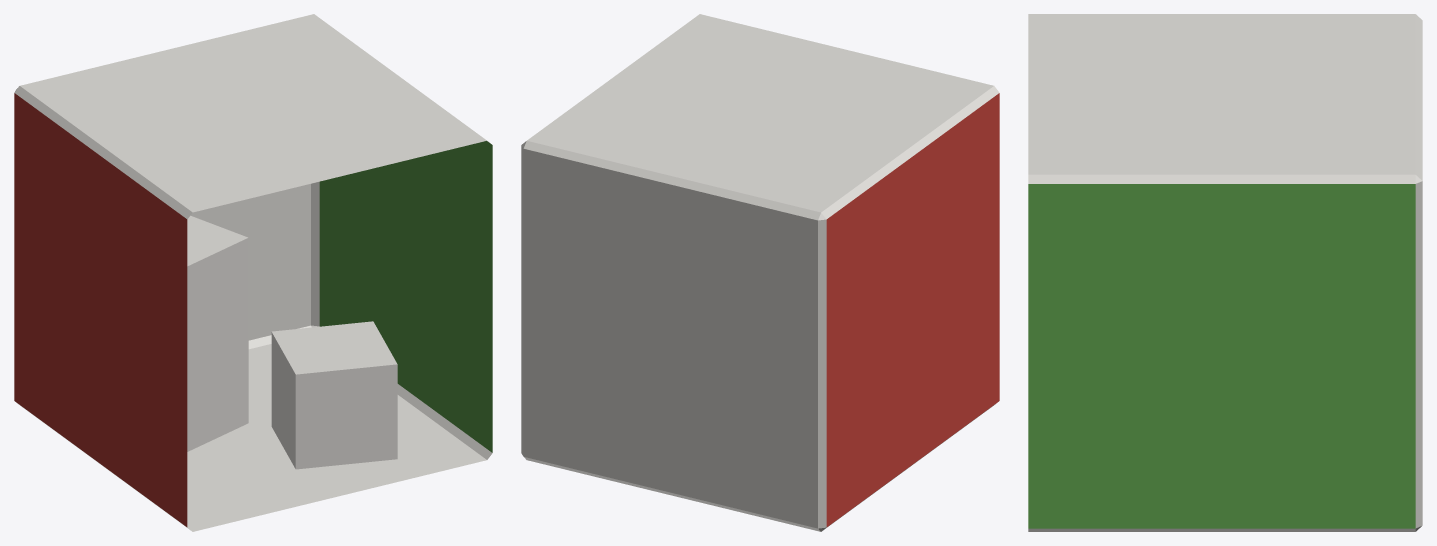
Rendered from cornell_emissive.gltf.
3 renders of one model, left to right at view 1: azimuth 30°, elevation 25°; view 2: azimuth 150°, elevation 25°; view 3: azimuth 270°, elevation 25°, orthographic. The views are drawn at different scales.
Visible parts, largest first — view 1: LeftWall, Roof, RightWall, Floor, Cube.003, Cube.004, BackWall, Cube; view 2: BackWall, LeftWall, Roof, Cube; view 3: RightWall, Roof, Cube.
Part boxes in pixels (x1=…): LeftWall: x1=14, y1=93, x2=187, y2=526; Roof: x1=20, y1=14, x2=486, y2=212; RightWall: x1=319, y1=141, x2=492, y2=452; Floor: x1=187, y1=344, x2=486, y2=531; Cube.003: x1=271, y1=321, x2=397, y2=469; Cube.004: x1=187, y1=215, x2=248, y2=451; BackWall: x1=190, y1=184, x2=310, y2=340; Cube: x1=14, y1=86, x2=492, y2=530; BackWall: x1=523, y1=149, x2=817, y2=528; LeftWall: x1=826, y1=93, x2=999, y2=526; Roof: x1=527, y1=14, x2=993, y2=212; Cube: x1=521, y1=86, x2=999, y2=531; RightWall: x1=1028, y1=184, x2=1415, y2=528; Roof: x1=1028, y1=14, x2=1415, y2=174; Cube: x1=1028, y1=14, x2=1422, y2=531.
Size of what is drawn, in the model's own units: 2 by 2 by 2.
